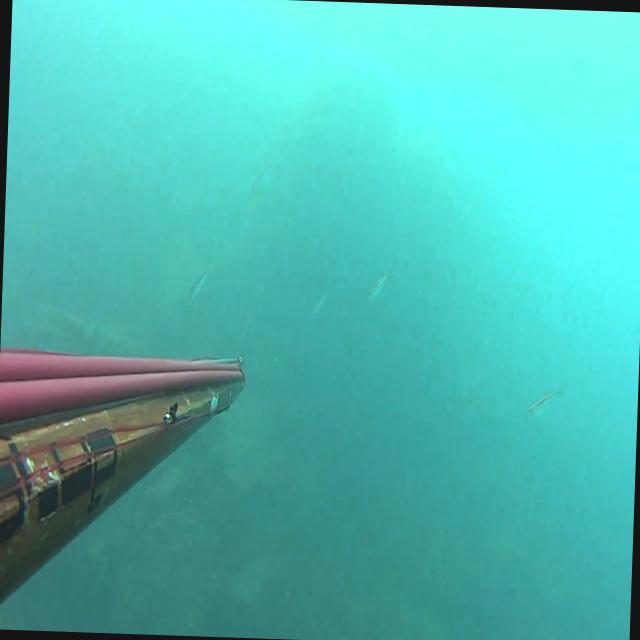Balon Baligi: (527, 387, 560, 418), (188, 264, 210, 301), (366, 270, 386, 303), (250, 166, 266, 192), (311, 291, 326, 313)
